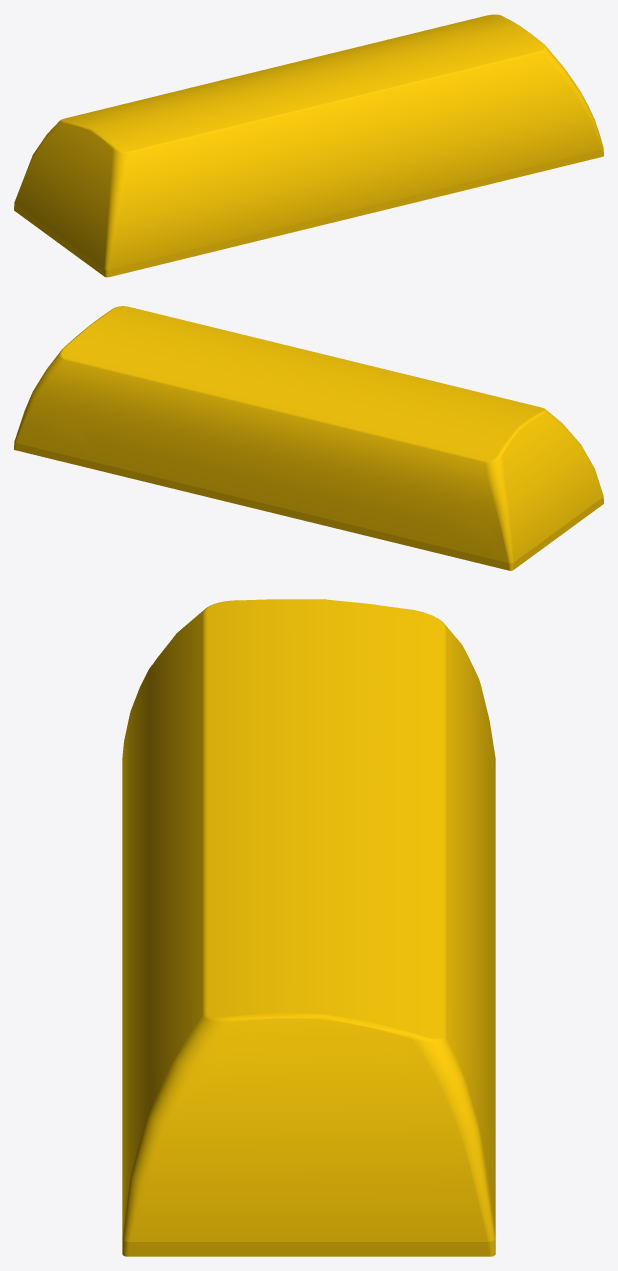
File: KAT_3u_r5.glb
3 renders of one model, top to bottom at view 1: azimuth 30°, elevation 25°; view 2: azimuth 150°, elevation 25°; view 3: azimuth 270°, elevation 25°, orthographic. The views are drawn at different scales.
Visible parts, largest first — view 1: Object.083; view 2: Object.083; view 3: Object.083.
Boxes of the visible parts, left/top/right/bottom form: Object.083: left=14, top=14, right=603, bottom=277; Object.083: left=14, top=306, right=603, bottom=570; Object.083: left=122, top=599, right=495, bottom=1256.
Size of the model in its own units: 56.2 by 11.17 by 18.2.
